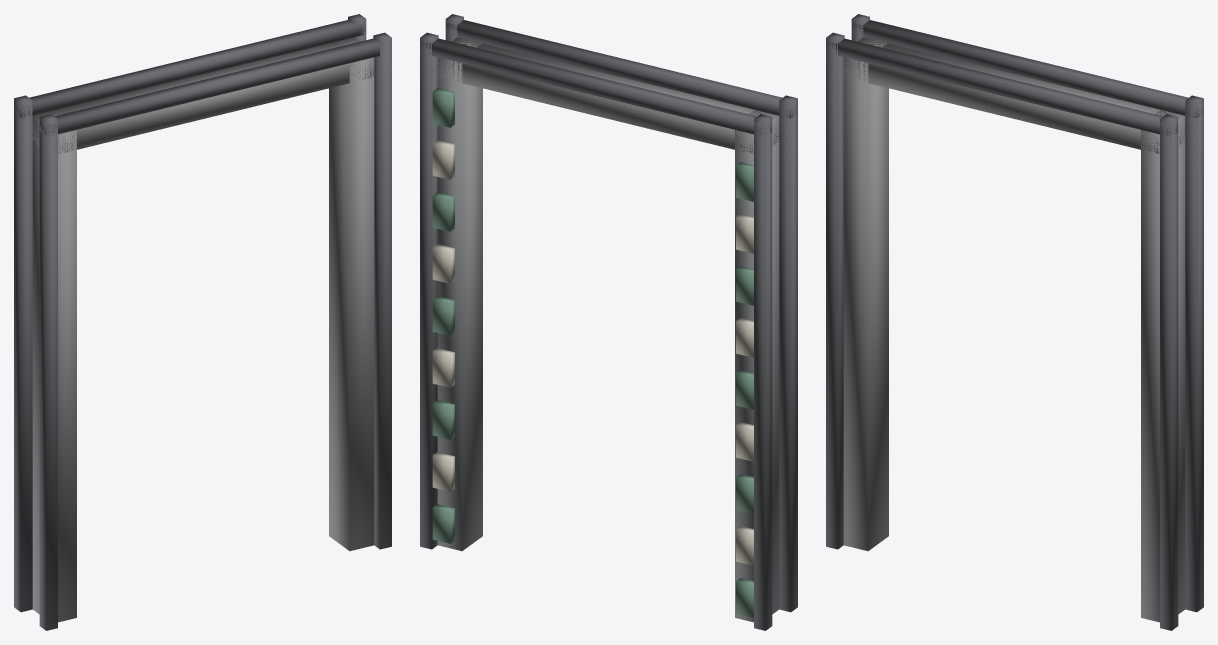
Rendered from doorway_tile_return_w122_h200_d16.glb.
3 renders of one model, left to right at view 1: azimuth 30°, elevation 25°; view 2: azimuth 150°, elevation 25°; view 3: azimuth 330°, elevation 25°, orthographic.
Parts seen in each view (by area): view 1: world; view 2: world; view 3: world.
Part boxes in pixels (bbox=[...]): world: bbox=[14, 14, 391, 630]; world: bbox=[420, 14, 797, 630]; world: bbox=[826, 14, 1203, 630].
Size of the model in its own units: 1.55 by 2.18 by 0.2496.
